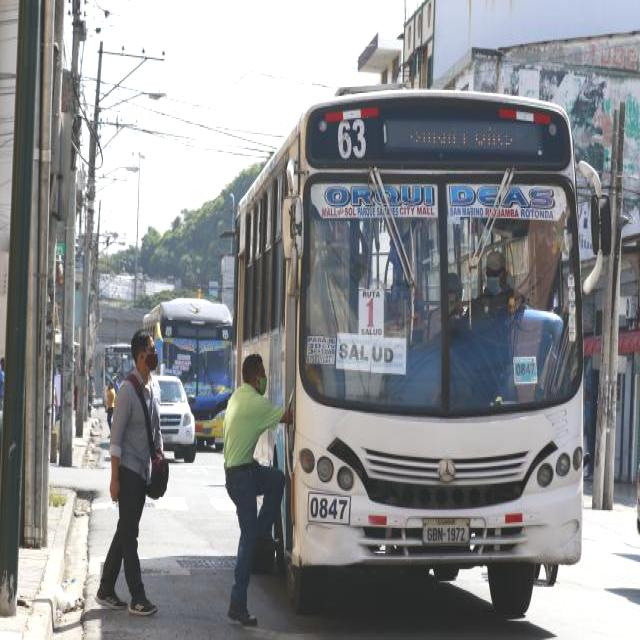BUS: (233, 89, 596, 626)
